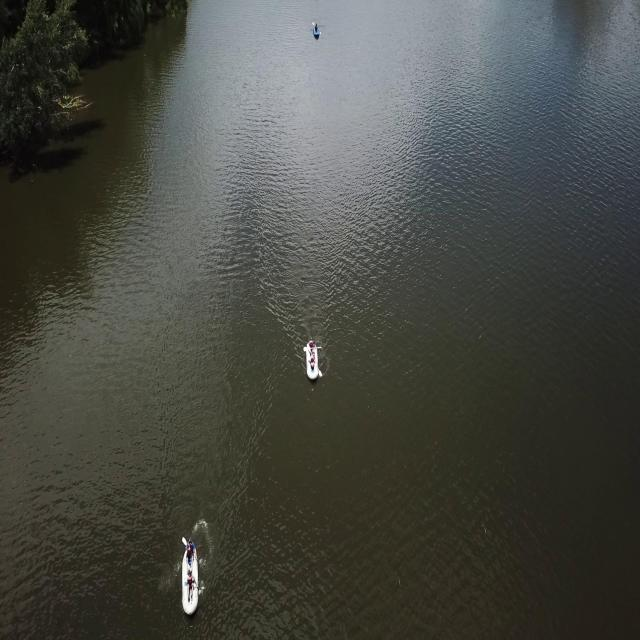kayak: (176, 537, 207, 623), (302, 336, 324, 384), (312, 21, 322, 41)
